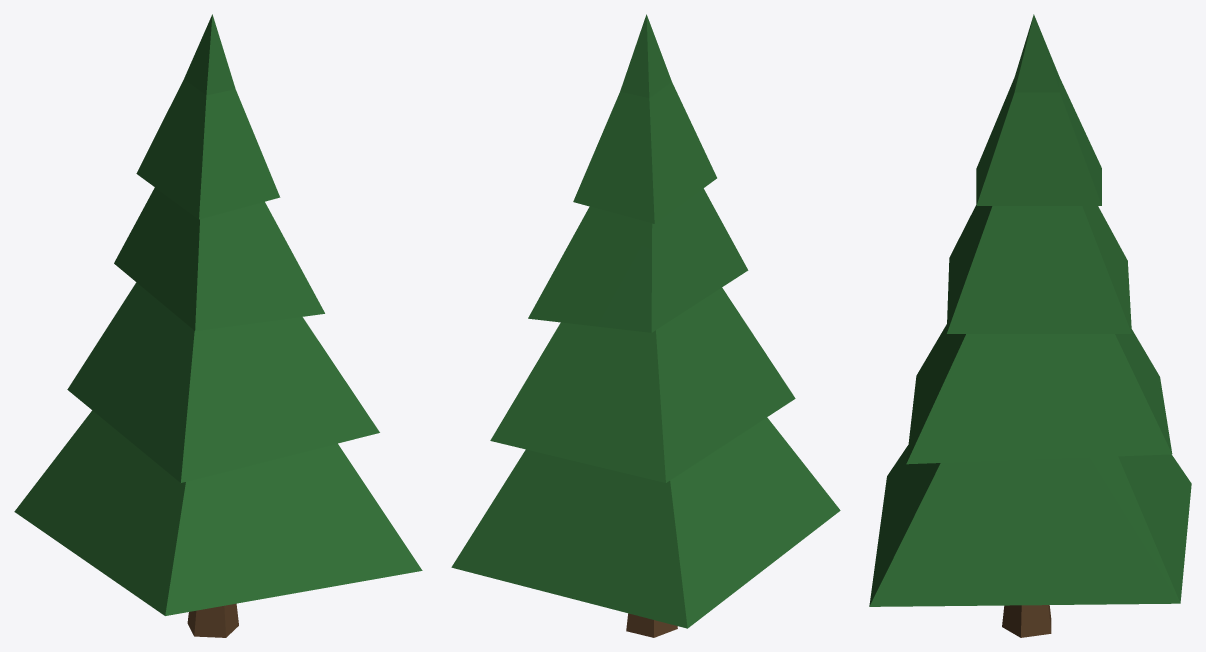
Rendered from nature-tree-conifer.glb.
The picture shows the model from 3 angles, left to right: view 1: azimuth 30°, elevation 25°; view 2: azimuth 150°, elevation 25°; view 3: azimuth 270°, elevation 25°; orthographic projection.
Visible parts, largest first — view 1: tree-conifer; view 2: tree-conifer; view 3: tree-conifer.
Boxes of the visible parts, x1,y1,x2,y2 form: tree-conifer: (14, 14, 422, 637); tree-conifer: (451, 14, 840, 637); tree-conifer: (869, 14, 1191, 637).
Bounding box in the file's own units: 2.44 × 5.74 × 2.73.
